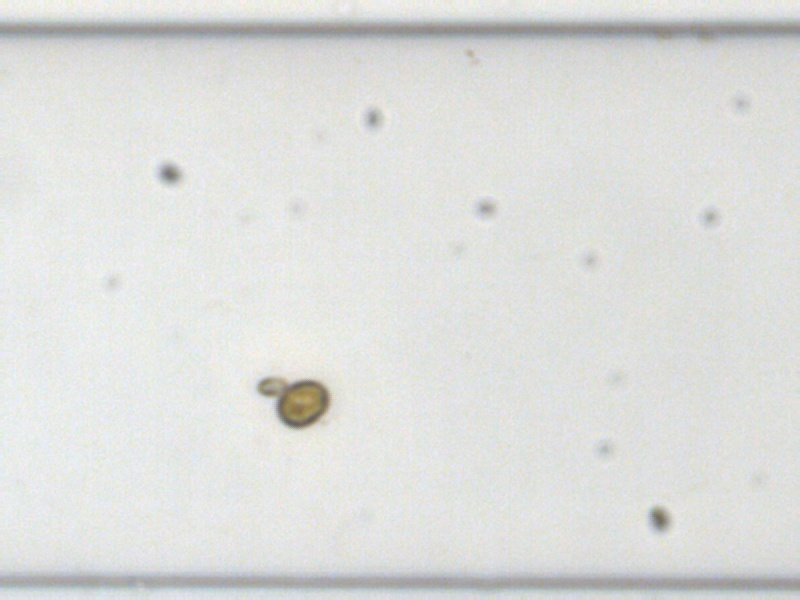Dunaliella salina: (255, 374, 287, 396)
Effrenium: (274, 376, 334, 429)
